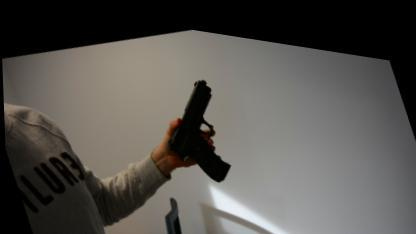pistol: (147, 63, 239, 189)
